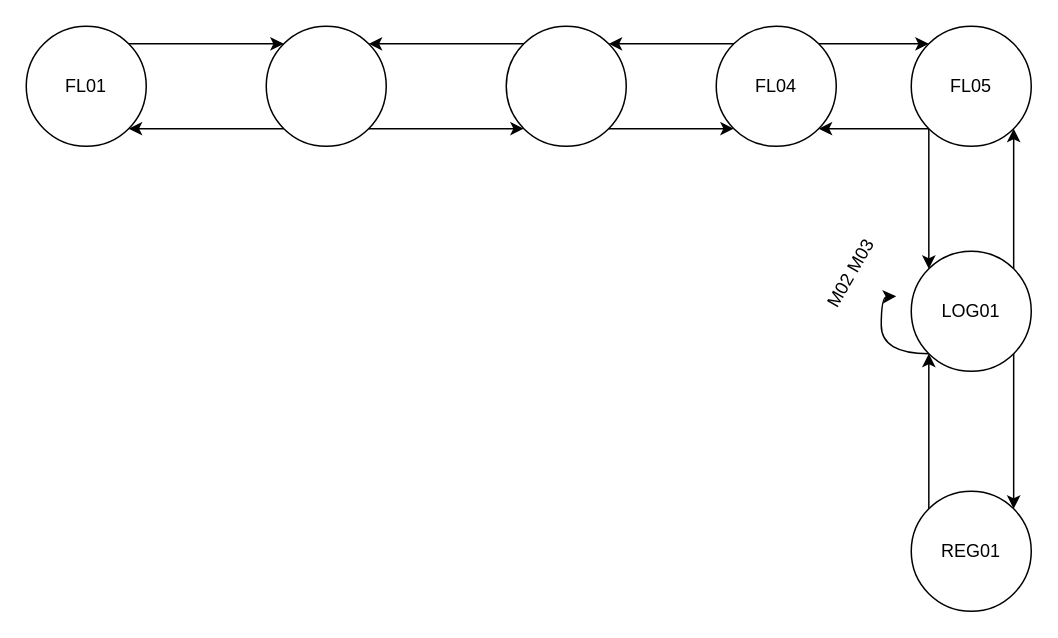
The diagram is 1058 pixels wide and 638 high, and some of its shapes have lost their labels. Here are the shapes that lost their labels. From the top down, the box of each, then its label:
(265, 25, 386, 146): FL02
(505, 25, 626, 146): FL03
